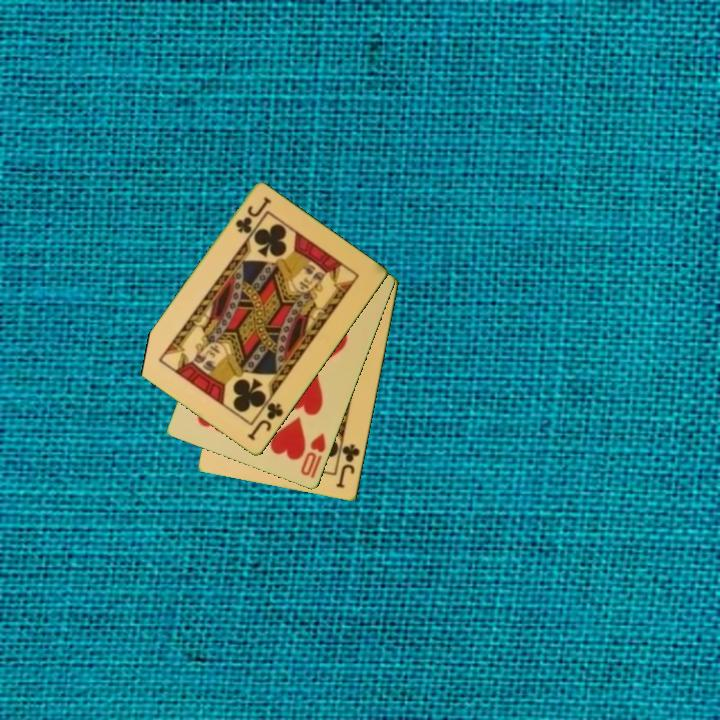10h: (297, 430, 329, 479)
Jc: (244, 399, 287, 444), (232, 194, 274, 237), (333, 441, 363, 491)
